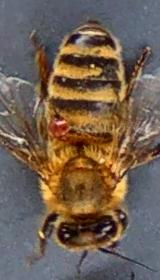varroa_mite: (41, 104, 81, 142)
